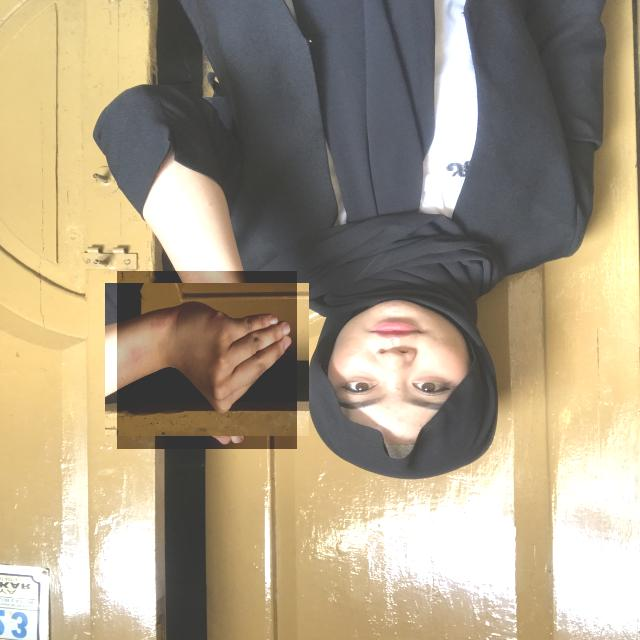kapan: (117, 271, 297, 449)
